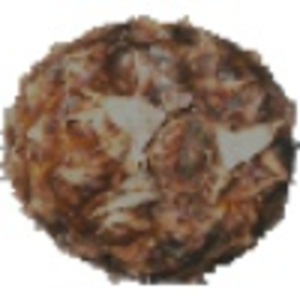abacaxi: (1, 8, 297, 277)
